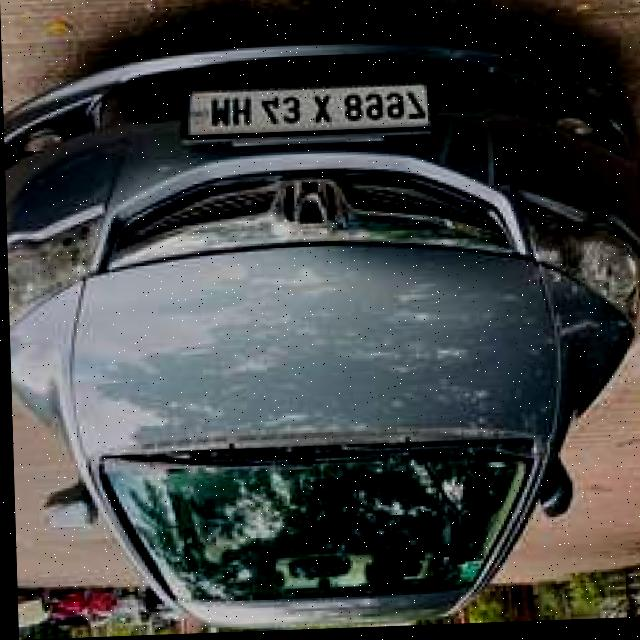plate: (189, 83, 432, 144)
